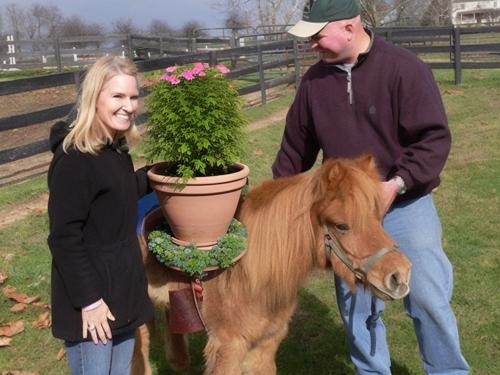horse: (135, 153, 415, 375)
person: (270, 2, 472, 375), (48, 57, 168, 375)
person/hand: (81, 301, 115, 346), (378, 179, 397, 216)
person/head: (84, 58, 138, 130), (309, 1, 363, 62)
pottedplant: (145, 60, 247, 282)
